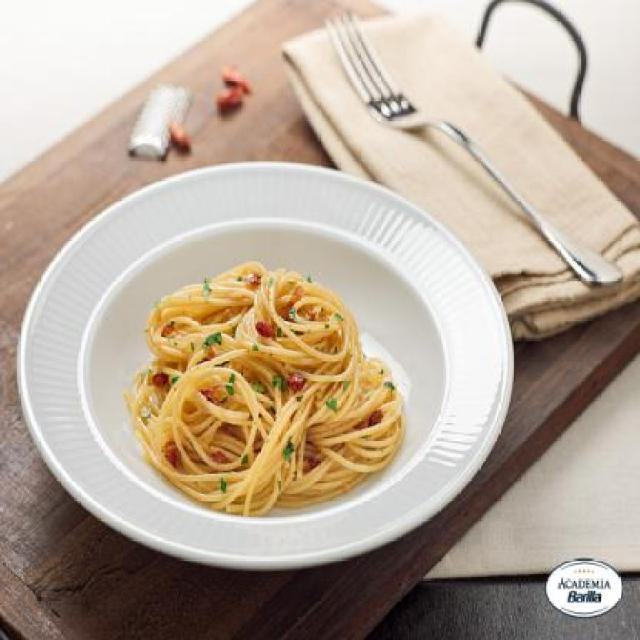Oil pasta: (92, 246, 430, 520)
